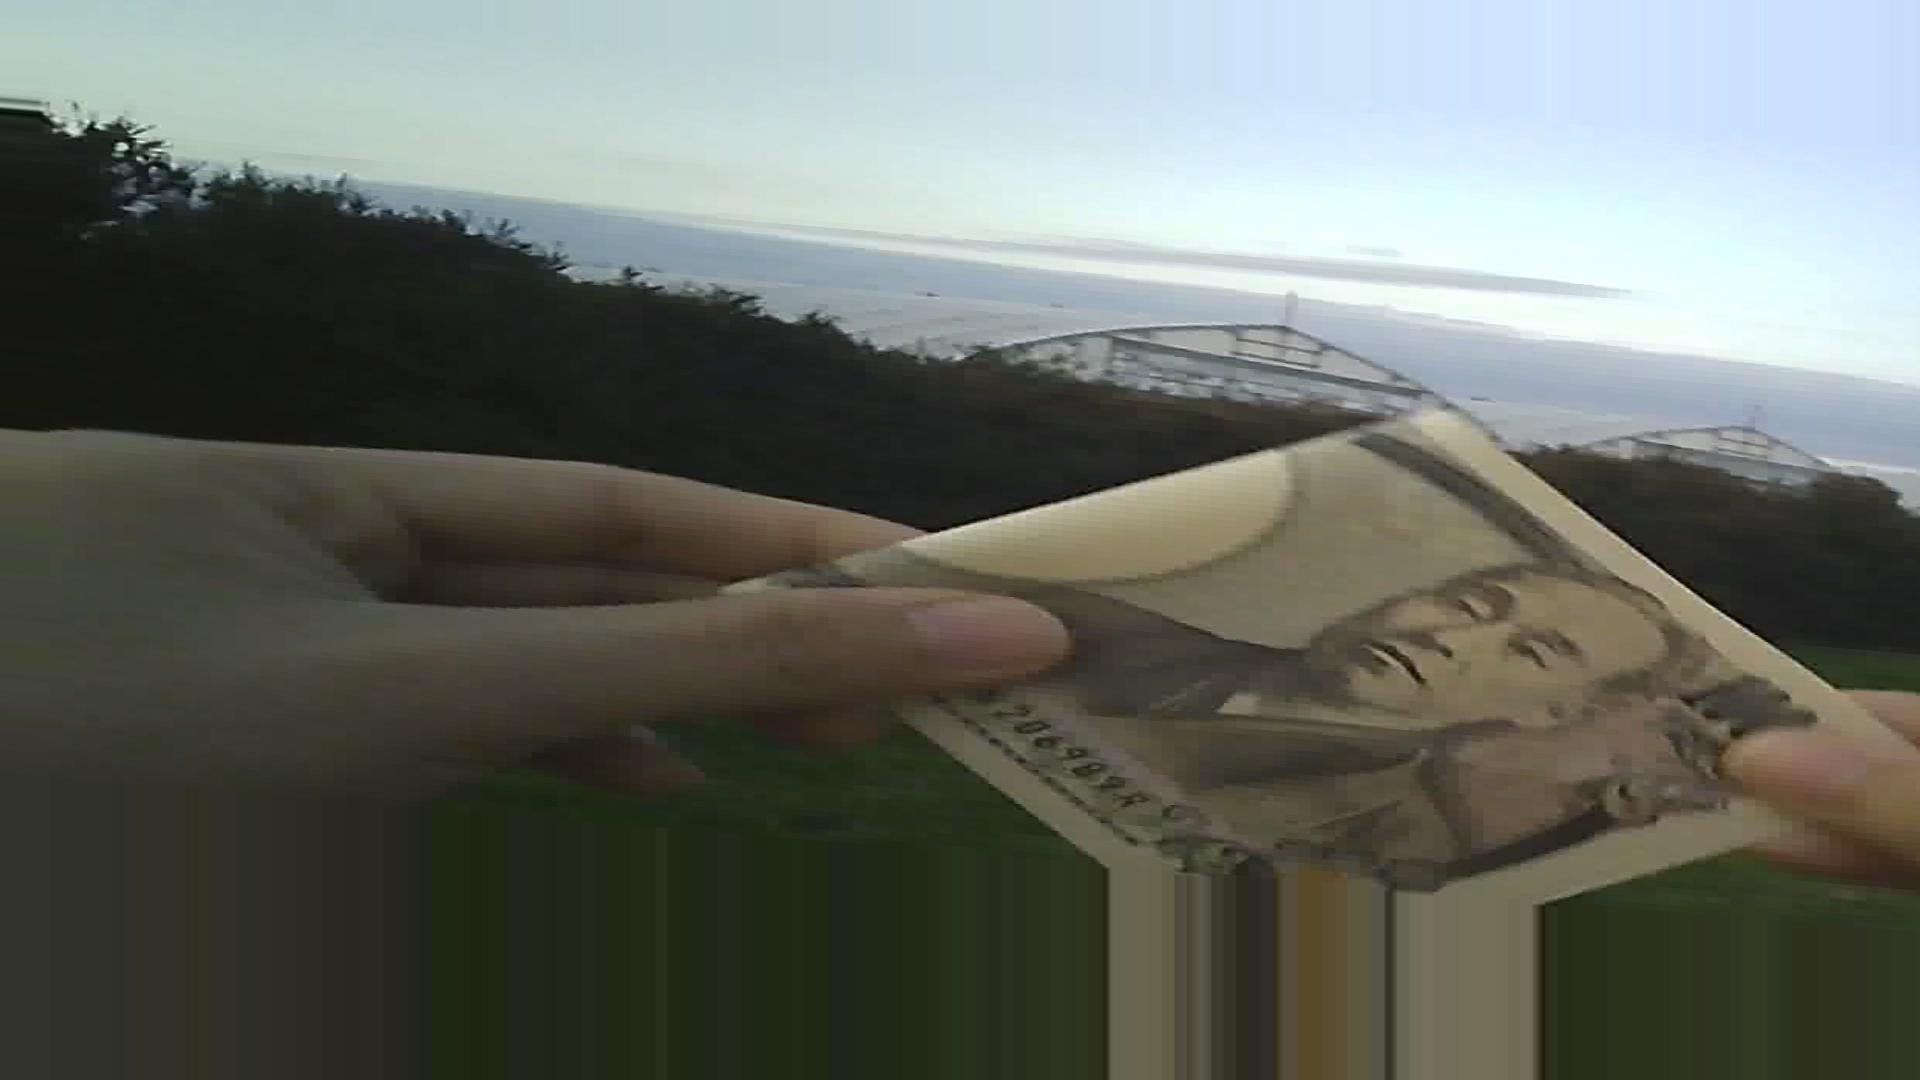10,000 Yen: (705, 369, 1811, 928)
